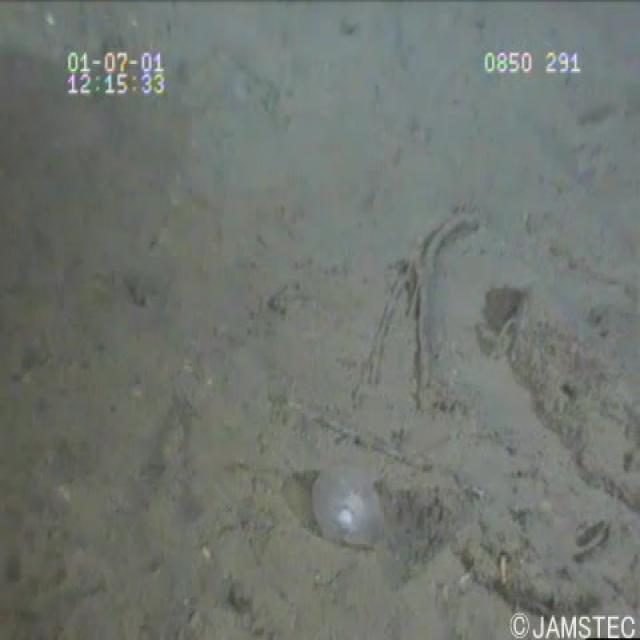plastic: (304, 453, 397, 569)
